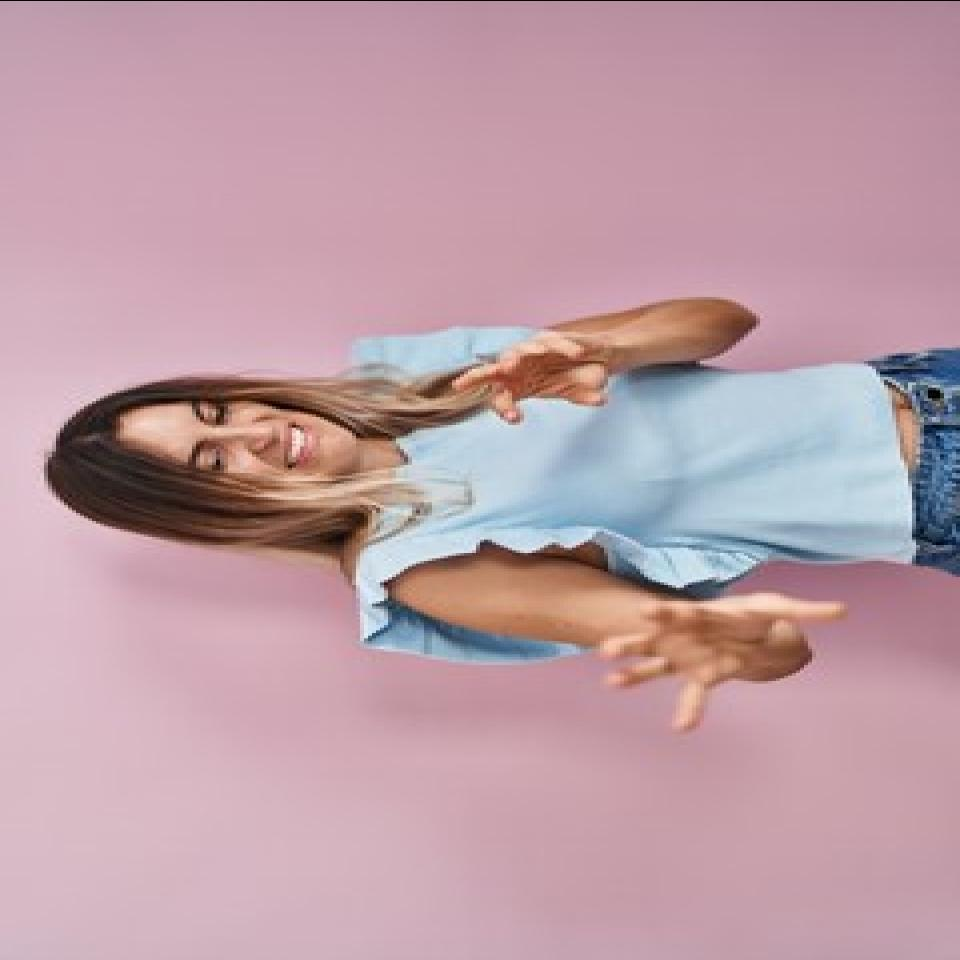Disgust: (113, 385, 374, 521)
